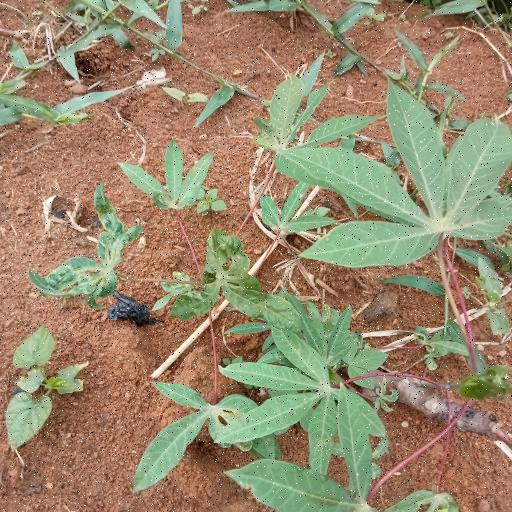Cassava_Mosaic: (280, 82, 512, 272), (213, 332, 373, 444), (30, 223, 142, 292), (121, 140, 214, 215)
